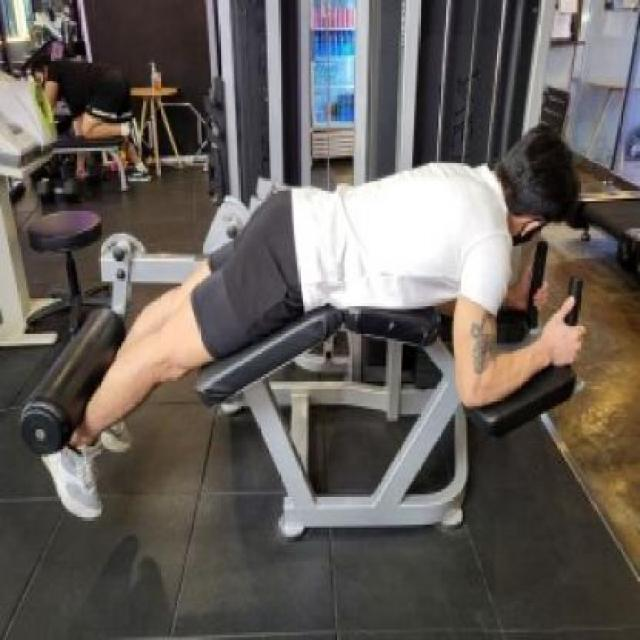reg curl machine: (18, 0, 587, 558)
